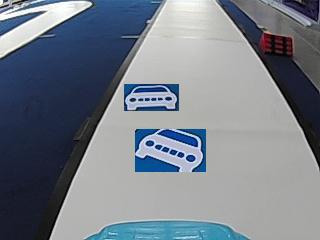bomb: (259, 31, 293, 55)
